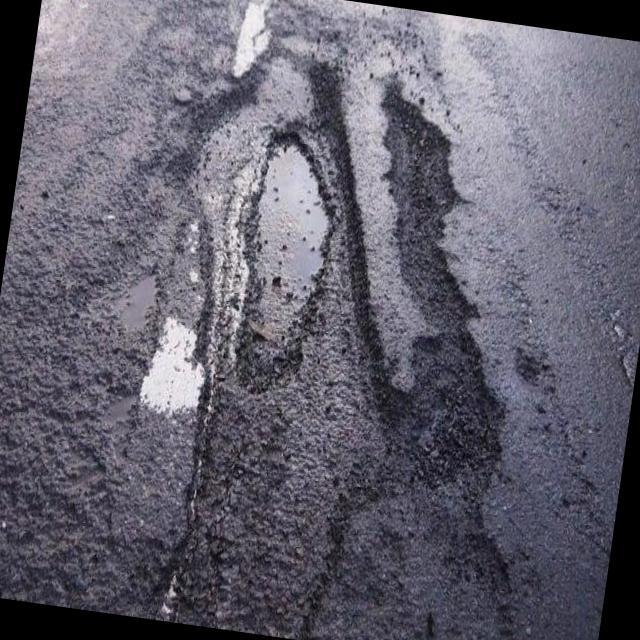Pothole: (174, 54, 500, 636)
